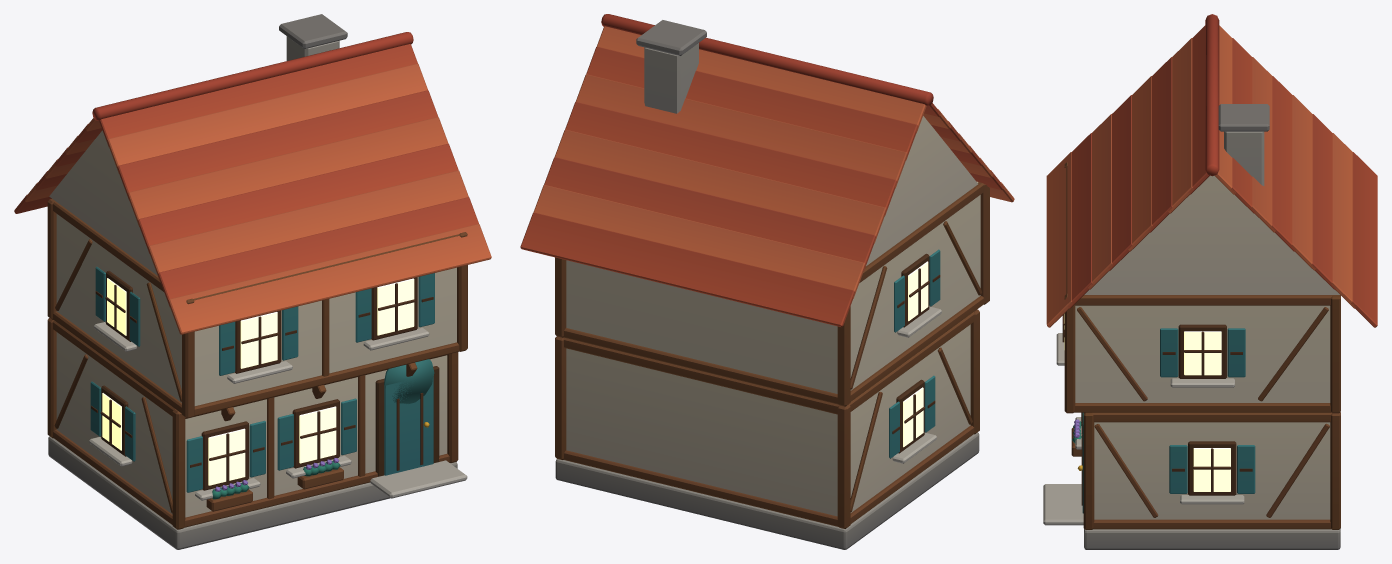
The model's file is house_two.glb.
3 views of the same model, side by side, from view 1: azimuth 30°, elevation 25°; view 2: azimuth 150°, elevation 25°; view 3: azimuth 270°, elevation 25° (orthographic). The views are drawn at different scales.
Visible parts, largest first — view 1: house_two; view 2: house_two; view 3: house_two.
Boxes of the visible parts, x1=… form: house_two: x1=14, y1=14, x2=491, y2=549; house_two: x1=520, y1=14, x2=1014, y2=549; house_two: x1=1043, y1=14, x2=1377, y2=549.
Bounding box in the file's own units: 6.7 × 8.35 × 6.23.
